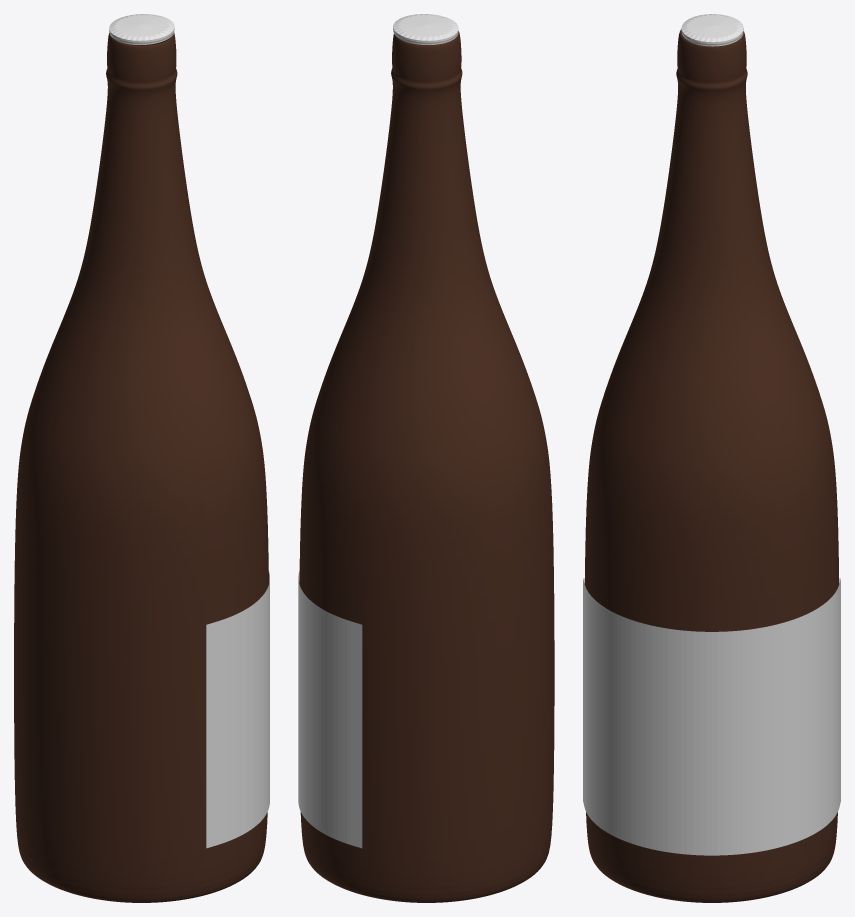
Rendered from sakeBottle_003(pl138k).fbx.
3 renders of one model, left to right at view 1: azimuth 30°, elevation 25°; view 2: azimuth 150°, elevation 25°; view 3: azimuth 270°, elevation 25°, orthographic.
Parts seen in each view (by area): view 1: ビン, ラベル, フタ; view 2: ビン, ラベル, フタ; view 3: ビン, ラベル, フタ.
Boxes of the visible parts, bbox=[...] form: ビン: bbox=[14, 33, 268, 902]; ラベル: bbox=[206, 570, 269, 848]; フタ: bbox=[109, 14, 174, 44]; ビン: bbox=[299, 31, 554, 902]; ラベル: bbox=[298, 571, 362, 848]; フタ: bbox=[393, 14, 458, 44]; ビン: bbox=[584, 29, 839, 902]; ラベル: bbox=[583, 578, 840, 855]; フタ: bbox=[681, 14, 743, 46].
Size of the model in its own units: 29.79 by 106 by 30.
